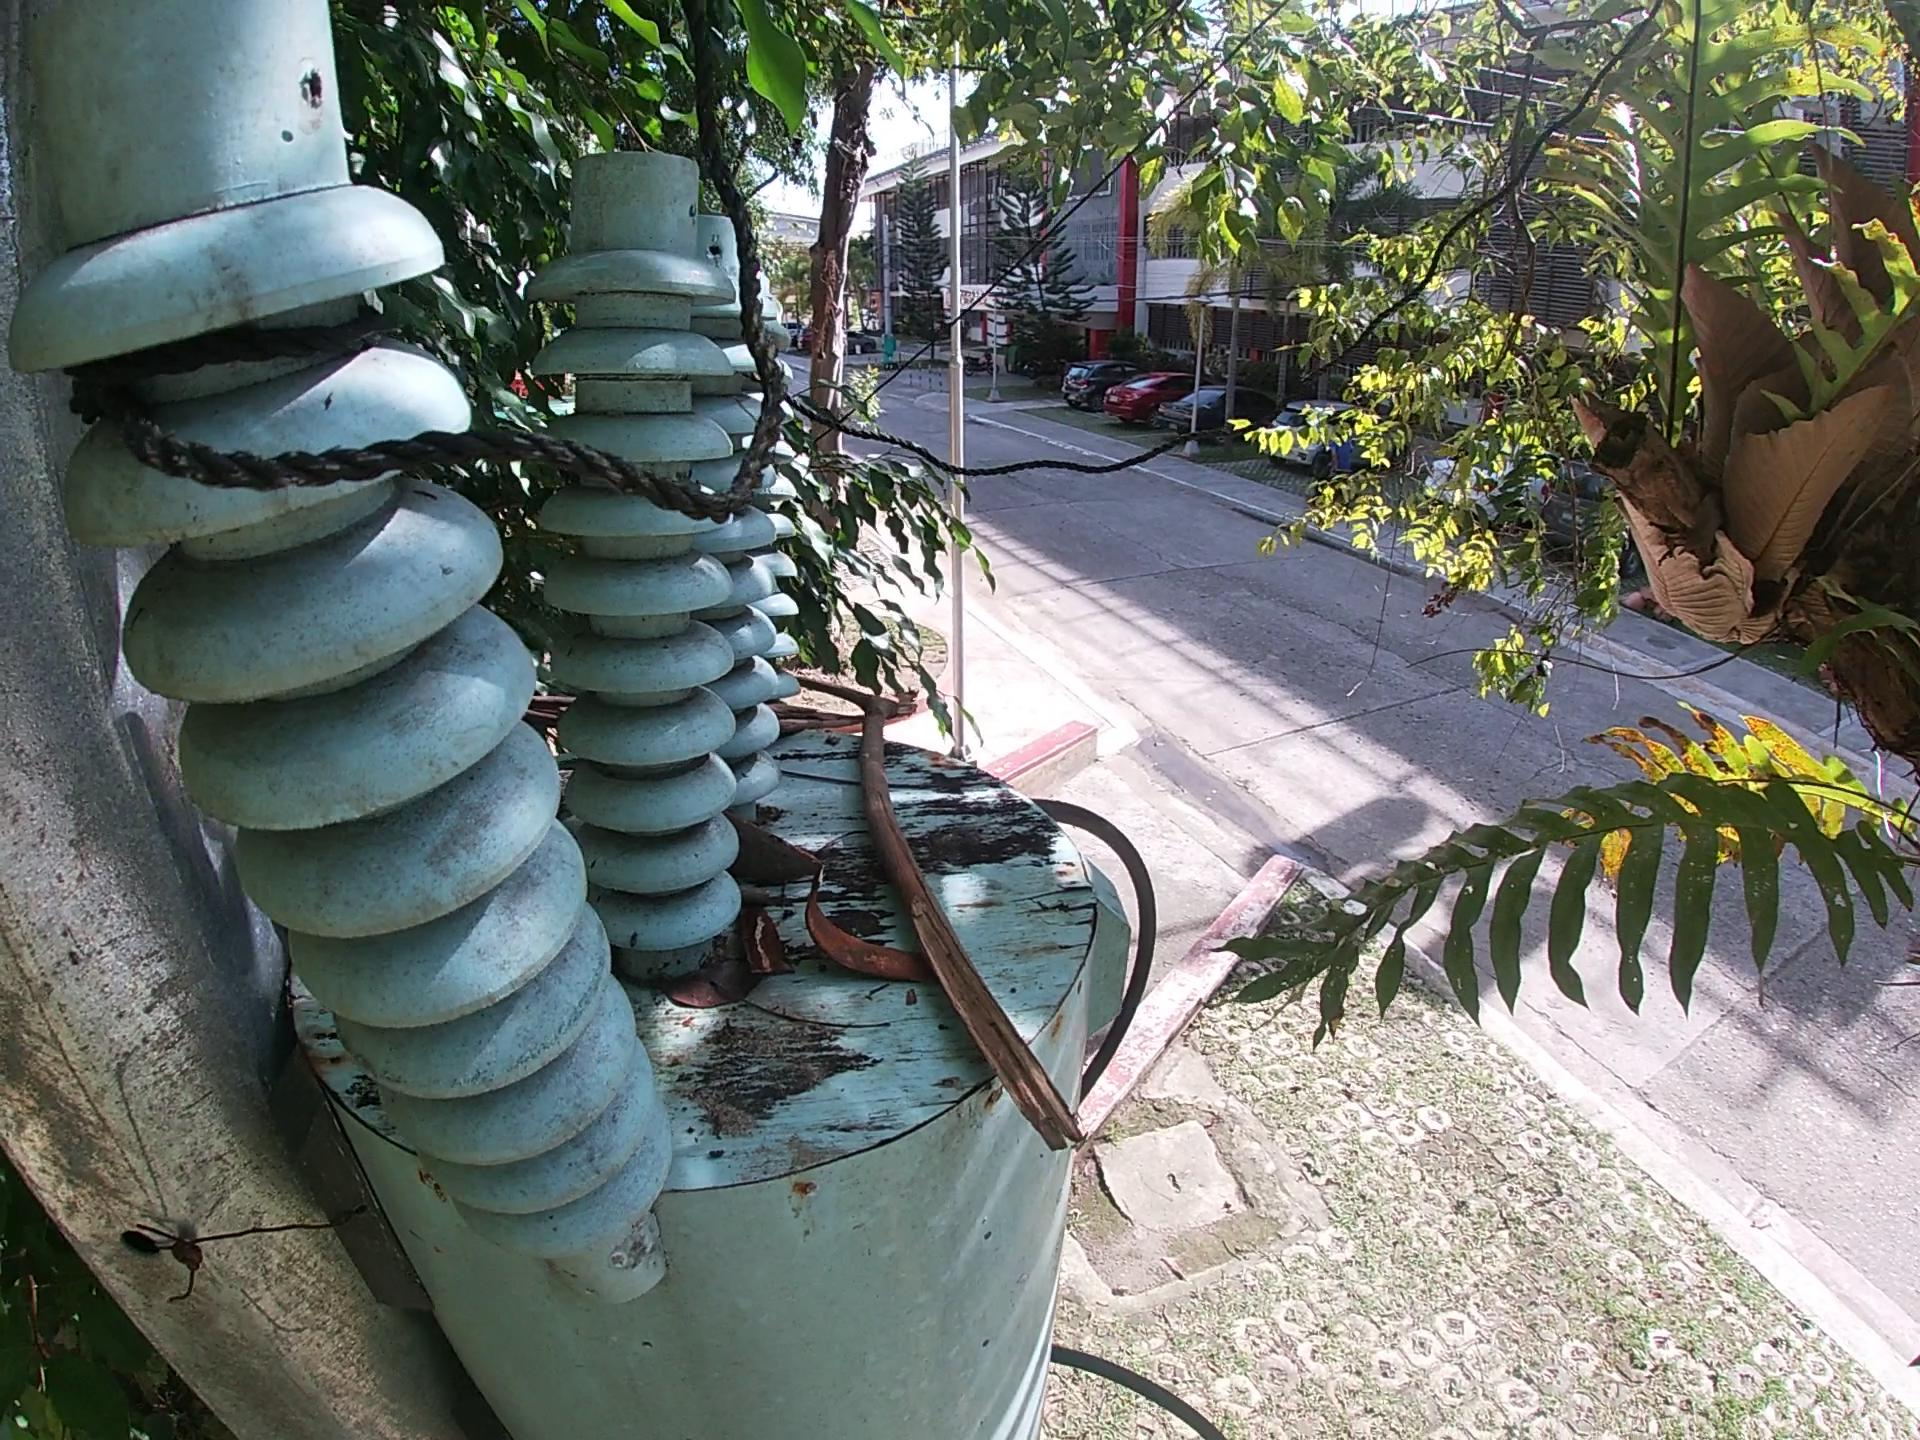leaf: (646, 935, 762, 1026)
mahogany fruit: (798, 864, 934, 989), (723, 814, 835, 889), (736, 898, 798, 986)
tree branch: (794, 675, 1089, 1157), (766, 700, 869, 734)
